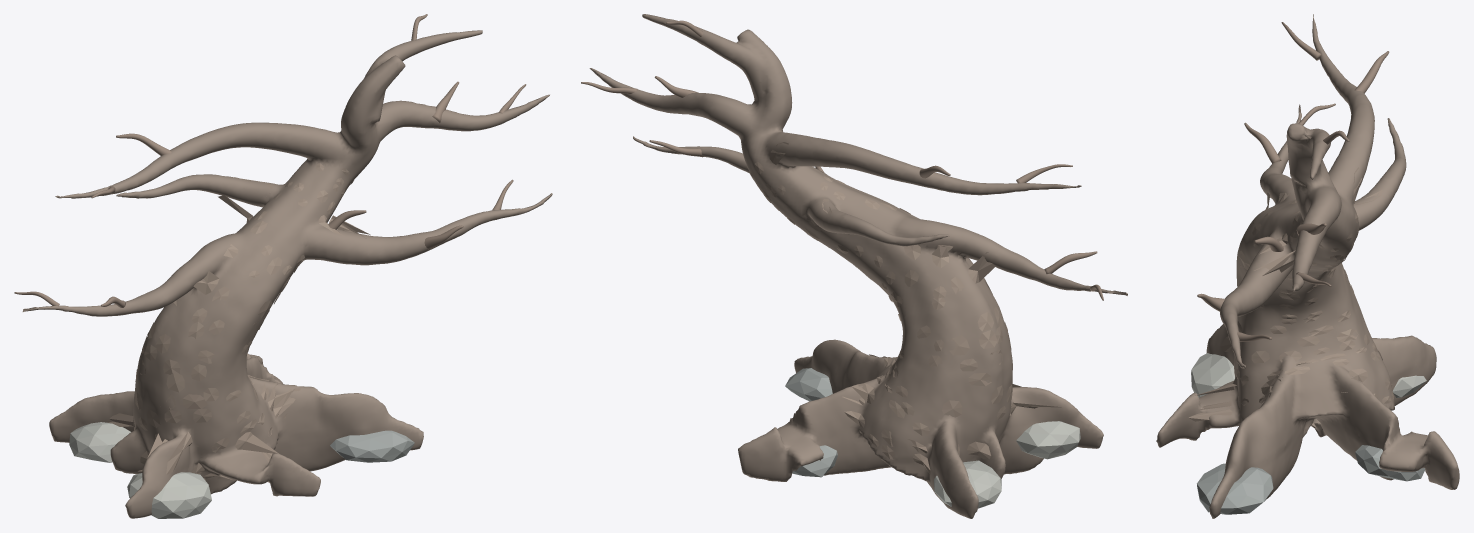
The model's file is pine005-h27-refined.glb.
3 views of the same model, side by side, from view 1: azimuth 30°, elevation 25°; view 2: azimuth 150°, elevation 25°; view 3: azimuth 270°, elevation 25° (orthographic). The views are drawn at different scales.
Parts seen in each view (by area): view 1: H27 ONE_CONTINUOUS_AGED_WOOD_MAIN_ROOTS_BRANCHES, H27 IRREGULAR BARK SHARDS no flute repetition, H27 irregular root-contact granite 1, H27 irregular root-contact granite 2, H27 irregular root-contact granite 3; view 2: H27 ONE_CONTINUOUS_AGED_WOOD_MAIN_ROOTS_BRANCHES, H27 IRREGULAR BARK SHARDS no flute repetition, H27 irregular root-contact granite 1, H27 irregular root-contact granite 3, H27 irregular root-contact granite 2, H27 irregular root-contact granite 4; view 3: H27 ONE_CONTINUOUS_AGED_WOOD_MAIN_ROOTS_BRANCHES, H27 IRREGULAR BARK SHARDS no flute repetition, H27 irregular root-contact granite 2, H27 irregular root-contact granite 1, H27 irregular root-contact granite 4, H27 irregular root-contact granite 3, H27 NATURAL OFFSHOOT 3, H27 NATURAL OFFSHOOT 1.
Boxes of the visible parts, <box> form: H27 ONE_CONTINUOUS_AGED_WOOD_MAIN_ROOTS_BRANCHES: <box>22,30,552,518</box>; H27 IRREGULAR BARK SHARDS no flute repetition: <box>108,163,370,481</box>; H27 irregular root-contact granite 1: <box>127,472,211,518</box>; H27 irregular root-contact granite 2: <box>330,430,414,462</box>; H27 irregular root-contact granite 3: <box>69,422,130,462</box>; H27 ONE_CONTINUOUS_AGED_WOOD_MAIN_ROOTS_BRANCHES: <box>589,14,1127,518</box>; H27 IRREGULAR BARK SHARDS no flute repetition: <box>749,142,1061,474</box>; H27 irregular root-contact granite 1: <box>1016,421,1080,459</box>; H27 irregular root-contact granite 3: <box>934,460,1001,508</box>; H27 irregular root-contact granite 2: <box>785,368,832,401</box>; H27 irregular root-contact granite 4: <box>792,445,837,477</box>; H27 ONE_CONTINUOUS_AGED_WOOD_MAIN_ROOTS_BRANCHES: <box>1156,14,1459,518</box>; H27 IRREGULAR BARK SHARDS no flute repetition: <box>1189,167,1394,421</box>; H27 irregular root-contact granite 2: <box>1197,463,1273,514</box>; H27 irregular root-contact granite 1: <box>1191,353,1234,397</box>; H27 irregular root-contact granite 4: <box>1355,445,1424,481</box>; H27 irregular root-contact granite 3: <box>1392,375,1426,397</box>; H27 NATURAL OFFSHOOT 3: <box>1354,51,1389,93</box>; H27 NATURAL OFFSHOOT 1: <box>1244,122,1281,163</box>.
Bounding box in the file's own units: 11.98 × 8.71 × 5.38.
